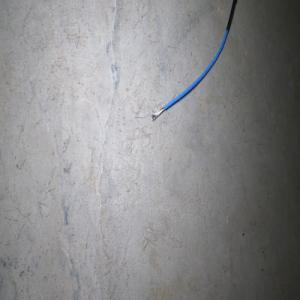Wire: (150, 0, 237, 121)
